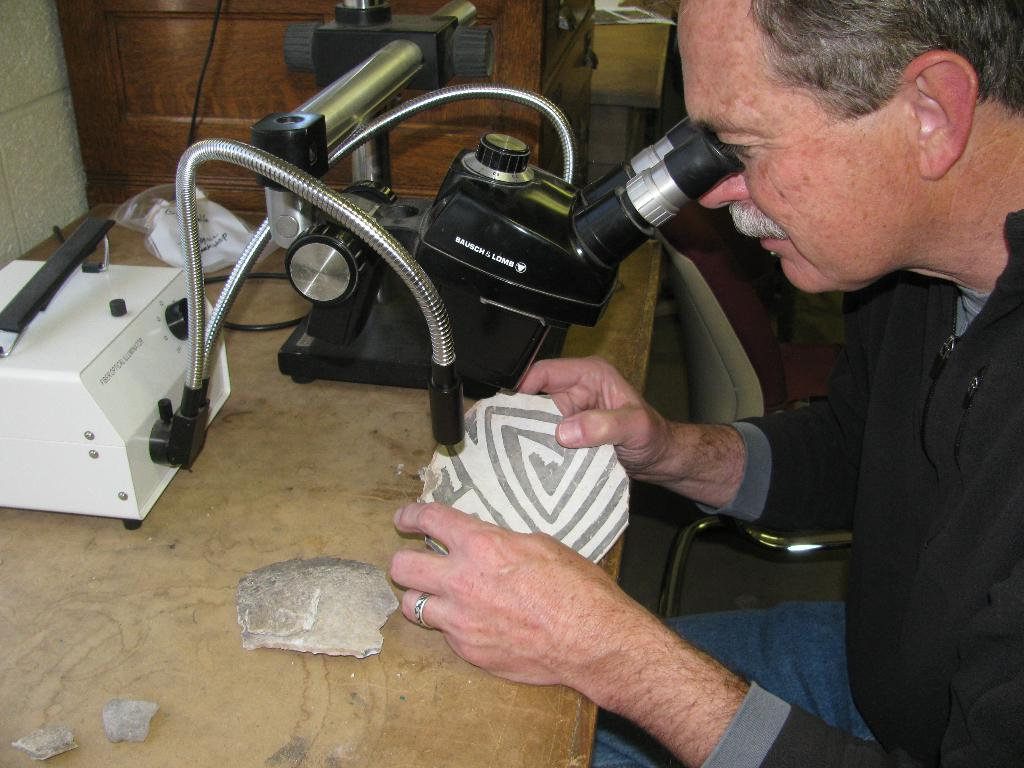Person: (390, 0, 1024, 768)
